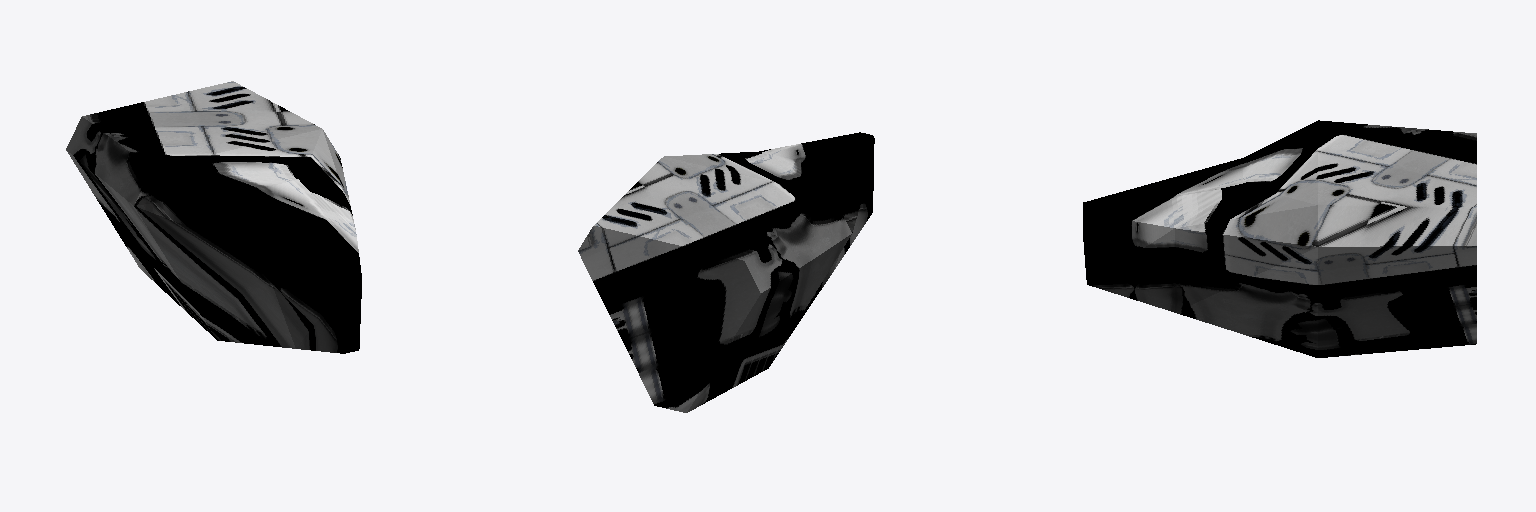
The picture shows the model from 3 angles: view 1: azimuth 30°, elevation 25°; view 2: azimuth 150°, elevation 25°; view 3: azimuth 270°, elevation 25°; orthographic projection.
Visible parts, largest first — view 1: Cylinder; view 2: Cylinder; view 3: Cylinder.
Boxes of the visible parts, <box> form: Cylinder: <box>66,81,361,353</box>; Cylinder: <box>578,132,874,412</box>; Cylinder: <box>1083,120,1476,357</box>.
Bounding box in the file's own units: 0.7979 × 0.6948 × 1.32.
1 materials, 1 textured.